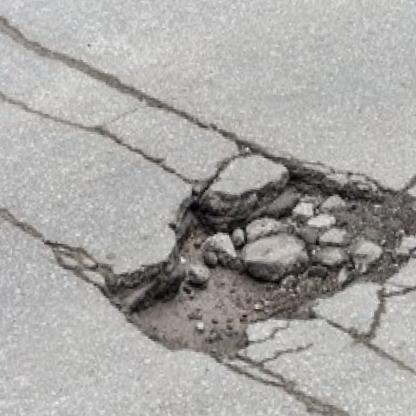pothole: (95, 145, 416, 376)
